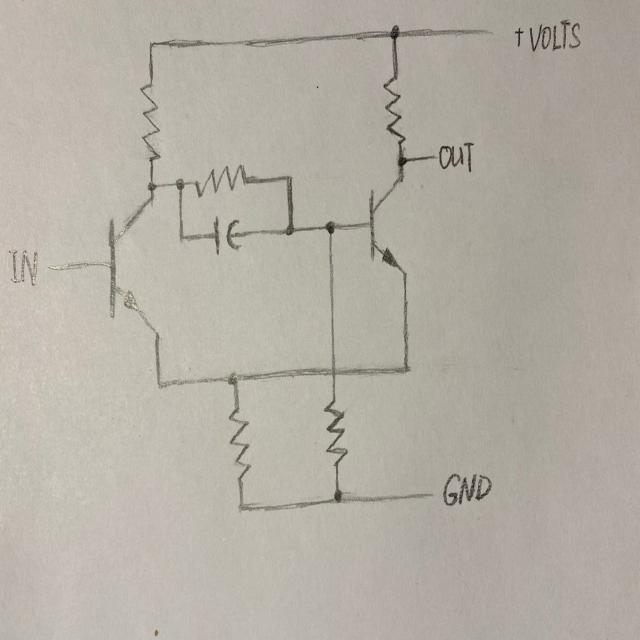capacitor: (202, 211, 255, 260)
crossover: (324, 356, 344, 384)
junction: (222, 362, 246, 395), (149, 370, 172, 402), (394, 355, 418, 384), (382, 17, 403, 47), (230, 492, 254, 518), (320, 213, 340, 244), (278, 215, 300, 243), (328, 483, 349, 511), (392, 150, 412, 172), (143, 31, 159, 57), (172, 227, 192, 246), (278, 168, 296, 189), (172, 170, 186, 194), (144, 175, 159, 194)
resistor: (136, 76, 168, 166), (225, 404, 253, 484), (190, 163, 253, 198), (381, 71, 411, 144), (323, 394, 351, 468)
terminal: (42, 250, 90, 280), (452, 20, 500, 44), (401, 484, 441, 506), (413, 147, 438, 164)
text: (441, 468, 494, 510), (528, 17, 582, 54), (7, 243, 39, 291), (439, 139, 478, 173), (512, 25, 524, 49)
transistor: (98, 195, 163, 345), (366, 175, 415, 280)
